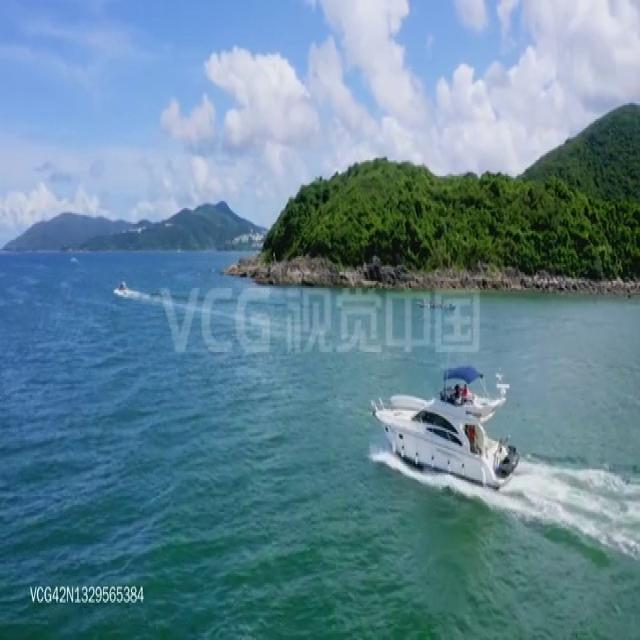houseboat: (370, 364, 520, 491), (113, 280, 128, 292)
